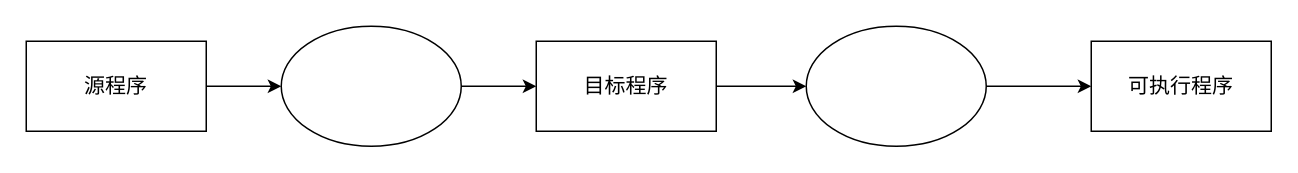
The diagram is 1298 pixels wide and 173 high, and some of its shapes have lost their labels. Here are the shapes that lost their labels. From the top down, the centre of each, then its label:
[370,85]: 编译
[895,85]: 链接器
